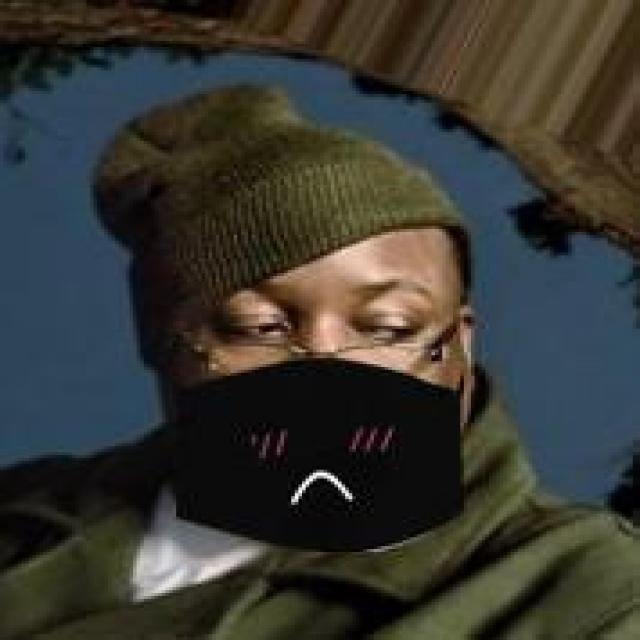mask: (47, 73, 568, 549)
